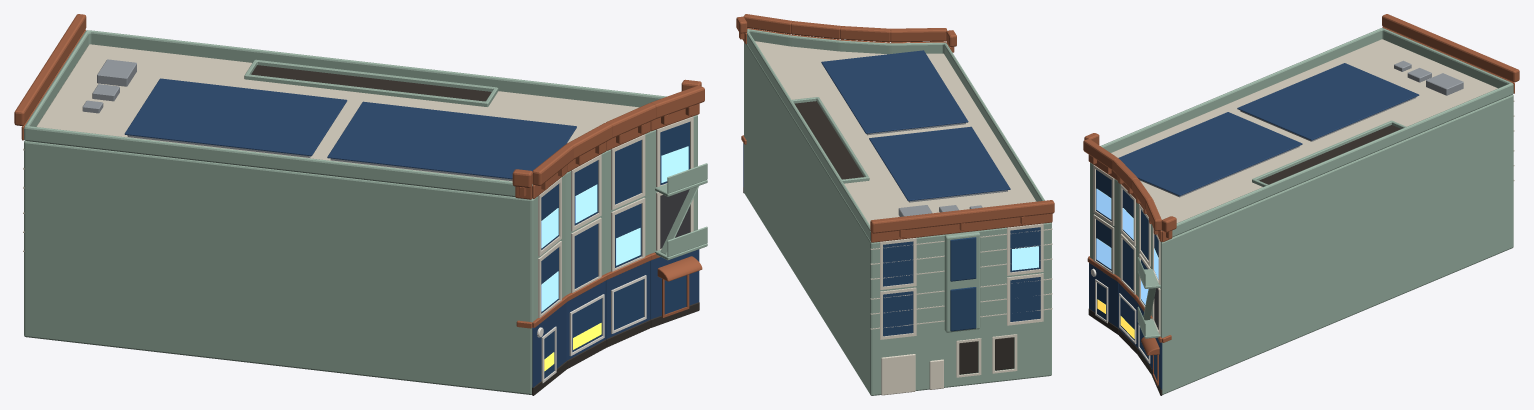
File: 22-south-park.glb
3 views of the same model, side by side, from view 1: azimuth 30°, elevation 25°; view 2: azimuth 150°, elevation 25°; view 3: azimuth 270°, elevation 25° (orthographic). The views are drawn at different scales.
Visible parts, largest first — view 1: body, frieze, roof_slab, pv_panel_0, pv_panel_1, well_curb, well_floor, cornice_crown_rear, f3_b1_fill, shop_band_3, f2_b2_fill, shop_band_0 (+20 smaller); view 2: body, roof_slab, pv_panel_0, pv_panel_1, frieze, cornice_crown_rear, well_floor, cornice_frieze_rear, rear_bay, rear_service_gate, rear_f3_b_fill, rear_f2_a_fill (+14 smaller); view 3: body, roof_slab, frieze, pv_panel_0, pv_panel_1, cornice_crown_rear, well_floor, shop_band_3, well_curb, roof_mech_a, cornice_crown_f3, f2_b2_fill.
Boxes of the visible parts, bbox=[...] form: body: bbox=[24, 115, 697, 394]; frieze: bbox=[24, 30, 666, 196]; roof_slab: bbox=[36, 44, 638, 181]; pv_panel_0: bbox=[327, 101, 576, 179]; pv_panel_1: bbox=[124, 78, 347, 156]; well_curb: bbox=[244, 59, 498, 106]; well_floor: bbox=[251, 65, 491, 101]; cornice_crown_rear: bbox=[14, 14, 86, 125]; f3_b1_fill: bbox=[615, 140, 641, 204]; shop_band_3: bbox=[532, 302, 566, 387]; f2_b2_fill: bbox=[574, 224, 598, 288]; shop_band_0: bbox=[650, 249, 699, 319]; body: bbox=[744, 42, 1051, 395]; roof_slab: bbox=[755, 41, 1036, 225]; pv_panel_0: bbox=[821, 50, 968, 133]; pv_panel_1: bbox=[869, 126, 1010, 201]; frieze: bbox=[747, 29, 1044, 241]; cornice_crown_rear: bbox=[870, 200, 1054, 233]; well_floor: bbox=[794, 101, 863, 179]; cornice_frieze_rear: bbox=[871, 213, 1052, 242]; rear_bay: bbox=[944, 231, 980, 332]; rear_service_gate: bbox=[881, 354, 915, 395]; rear_f3_b_fill: bbox=[883, 241, 913, 286]; rear_f2_a_fill: bbox=[1010, 277, 1040, 321]; body: bbox=[1090, 94, 1513, 394]; roof_slab: bbox=[1111, 39, 1497, 222]; frieze: bbox=[1100, 28, 1513, 237]; pv_panel_0: bbox=[1118, 112, 1302, 195]; pv_panel_1: bbox=[1237, 63, 1419, 140]; cornice_crown_rear: bbox=[1382, 14, 1519, 82]; well_floor: bbox=[1259, 125, 1400, 184]; shop_band_3: bbox=[1089, 263, 1118, 328]; well_curb: bbox=[1252, 120, 1406, 186]; roof_mech_a: bbox=[1426, 73, 1463, 95]; cornice_crown_f3: bbox=[1083, 139, 1118, 170]; f2_b2_fill: bbox=[1122, 239, 1133, 290].
Size of the model in its own units: 36.02 by 14.22 by 31.84.
